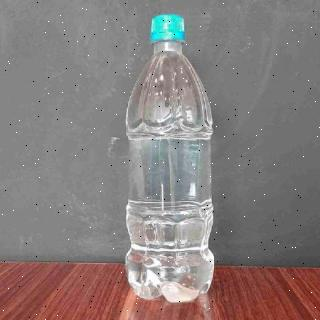Plastic-bottle: (118, 13, 223, 304)
